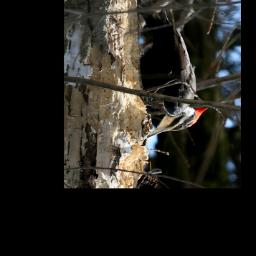Woodpecker: (138, 0, 209, 138)
